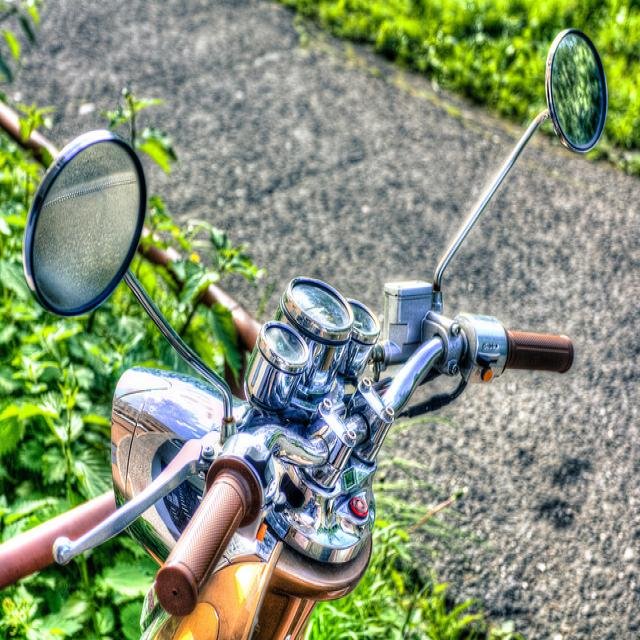motor: (13, 23, 628, 630)
